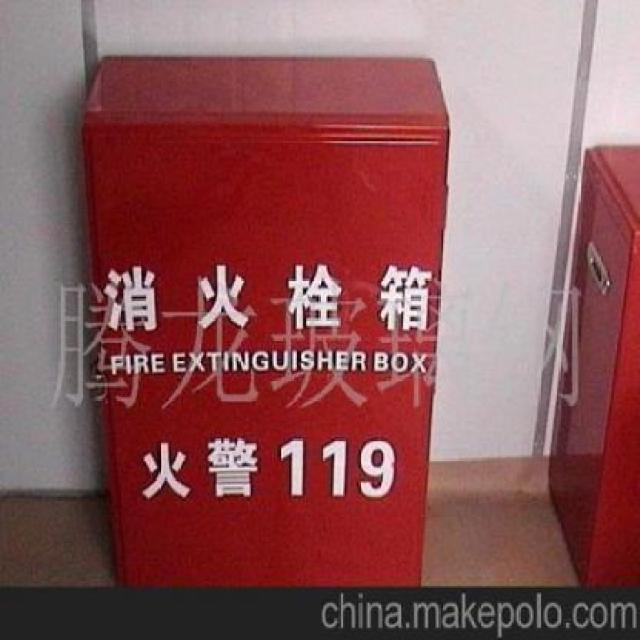firehydrant: (74, 48, 453, 588), (543, 136, 640, 584)
